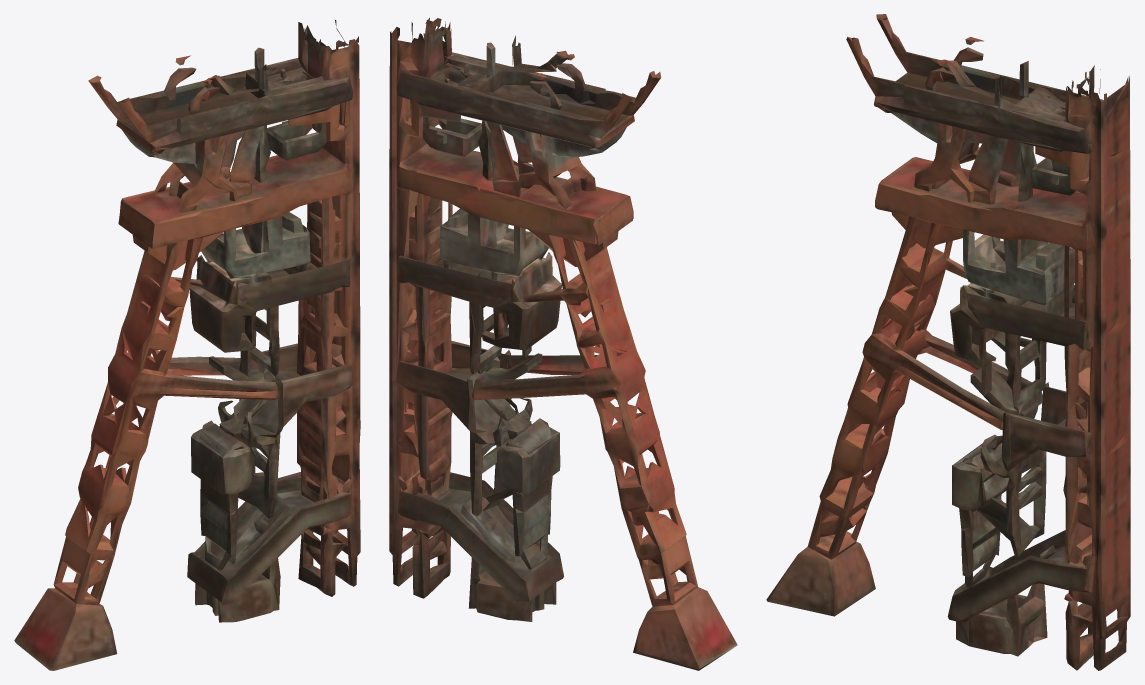
File: headframe.glb
3 views of the same model, side by side, from view 1: azimuth 30°, elevation 25°; view 2: azimuth 150°, elevation 25°; view 3: azimuth 330°, elevation 25° (orthographic). The views are drawn at different scales.
Parts seen in each view (by area): view 1: main; view 2: main; view 3: main.
Boxes of the visible parts, x1,y1,x2,y2 form: main: [14, 20, 360, 670]; main: [389, 17, 737, 670]; main: [766, 14, 1130, 670].
Size of the model in its own units: 4.13 by 7 by 0.9336.
Materials: 1 (1 with a texture image).
